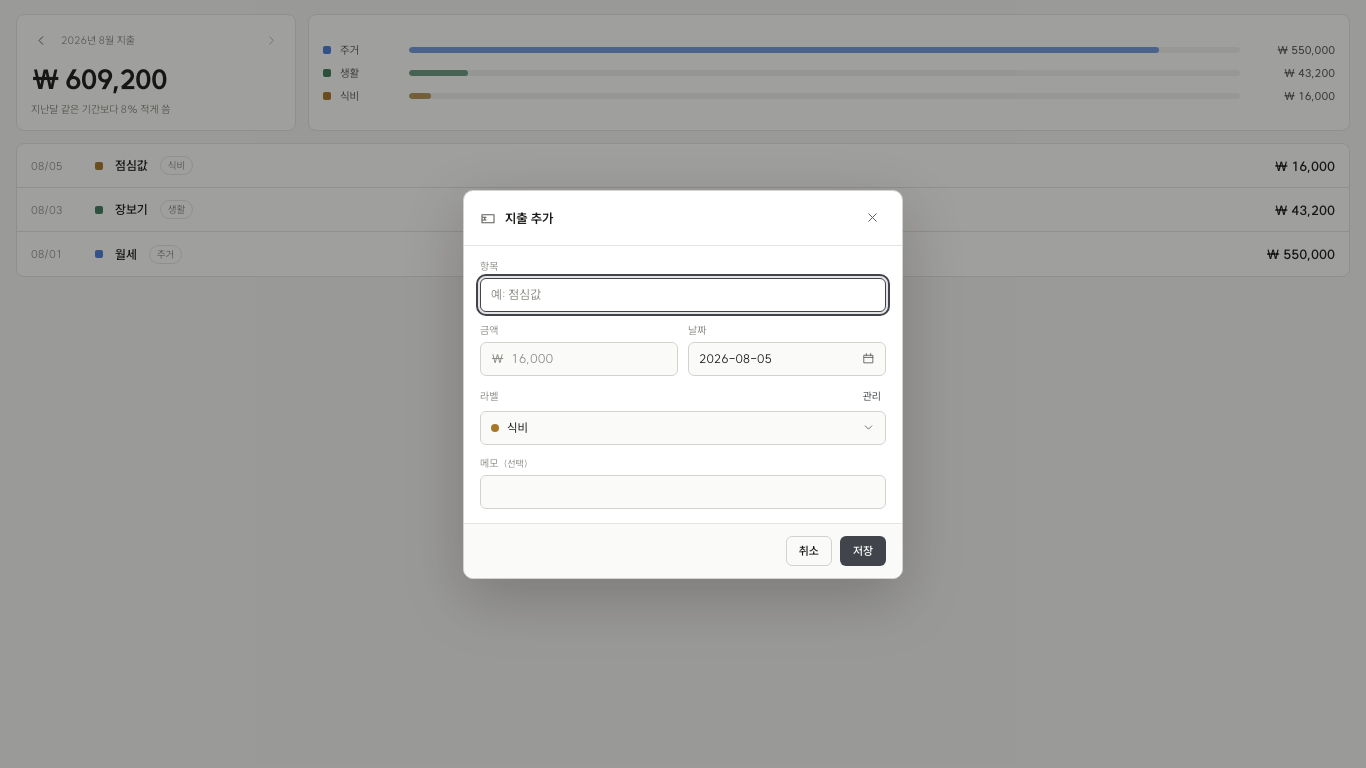
Scenario: LedgerPage › shows the creation pending state inside the Modal
In the field labelled "항목": x=683, y=294 [480, 278, 886, 312], type "저녁 식사"
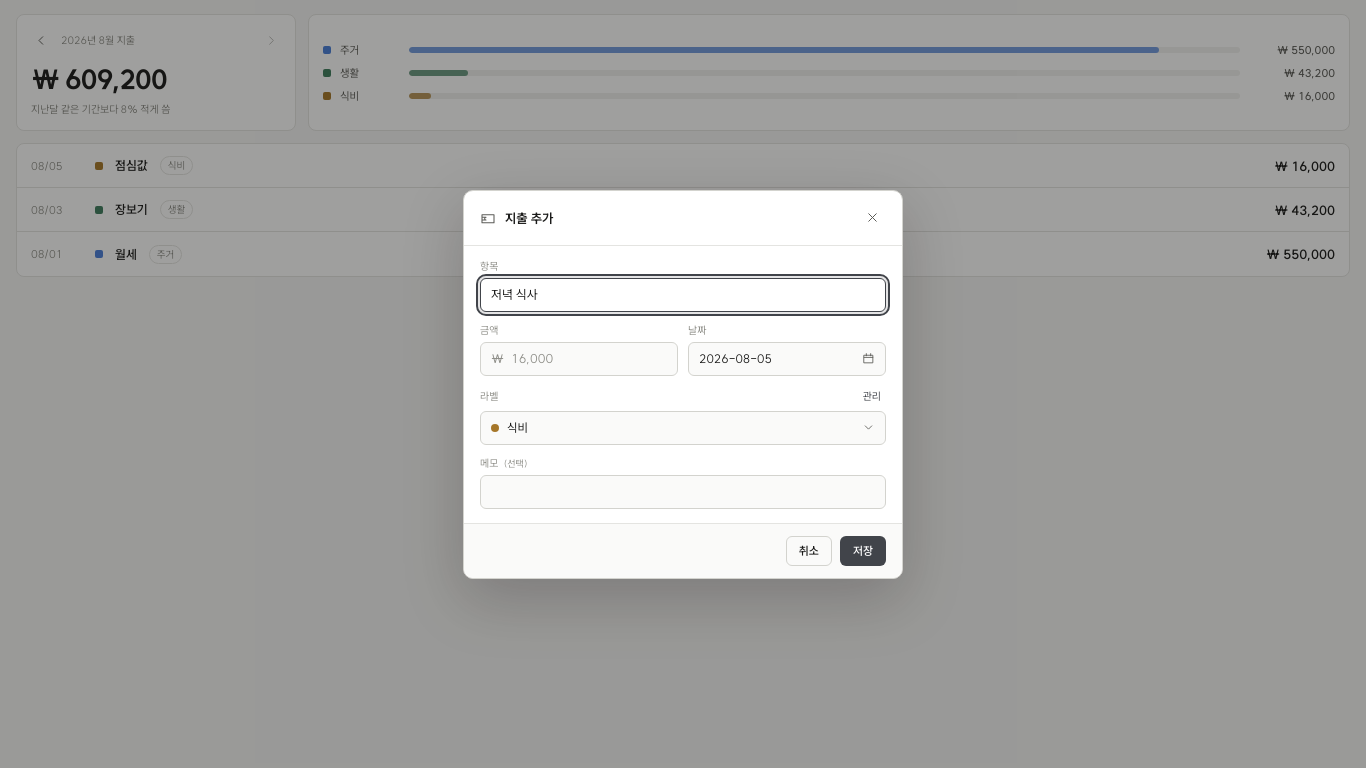
In the field labelled "금액": x=589, y=358 [511, 342, 667, 374], type "12345"
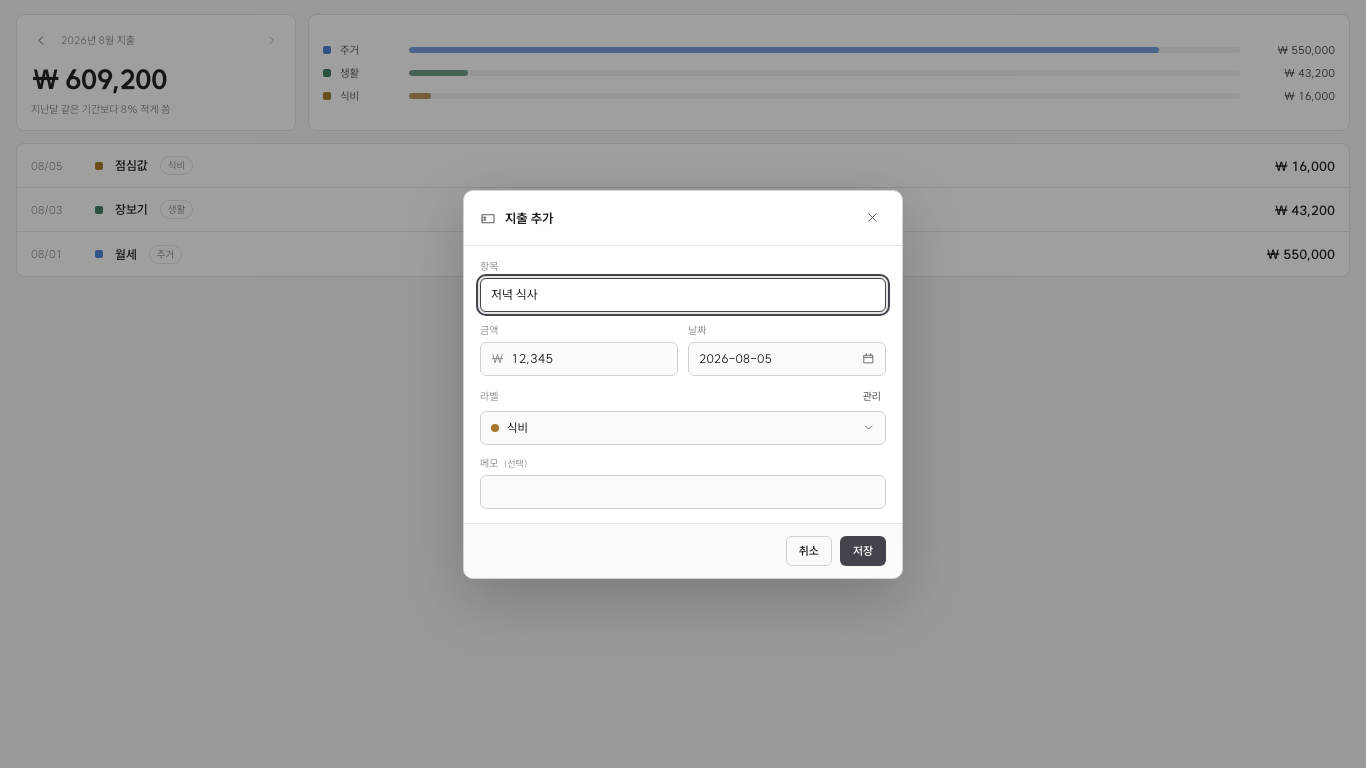
Check: the field labelled "금액" holds "12,345", box [511, 342, 667, 374]
Click the button "저장": x=863, y=550 [840, 536, 886, 566]
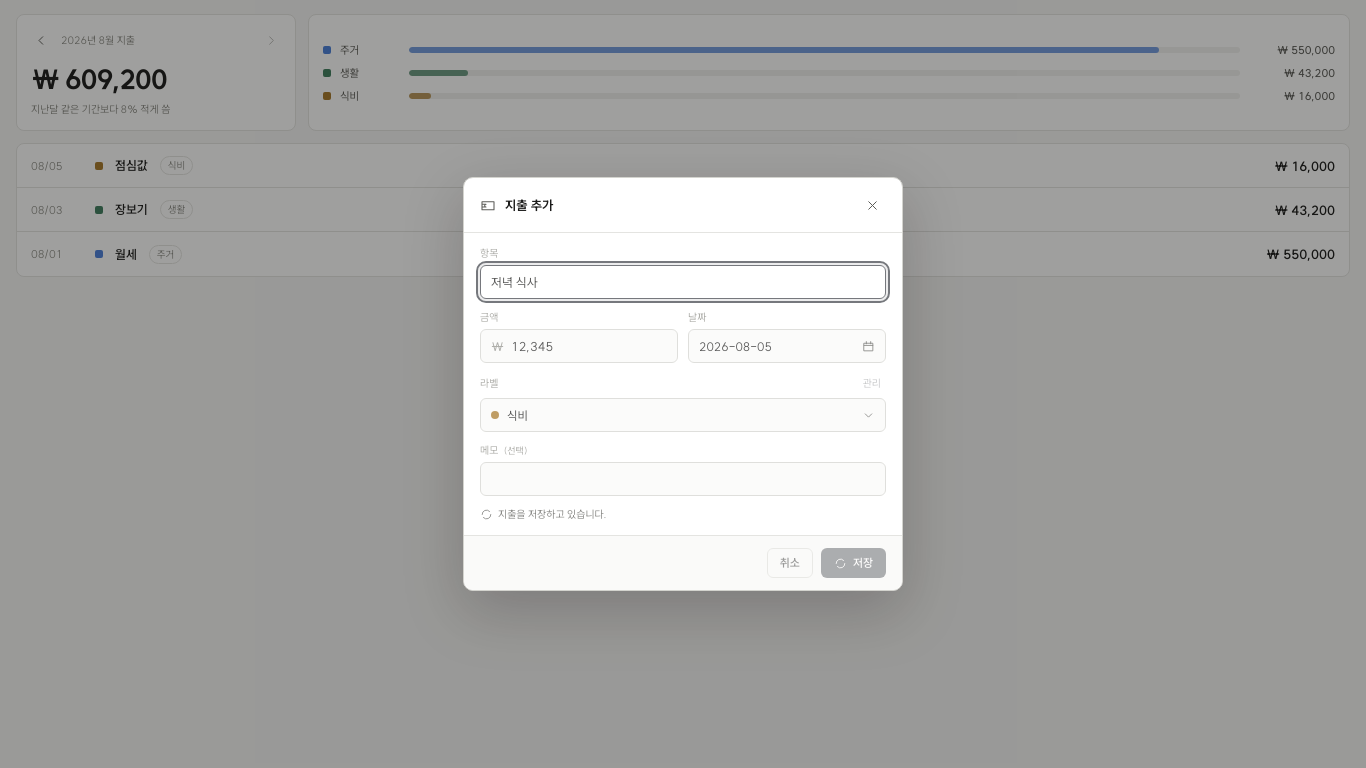
Check: the message reads "지출을 저장하고 있습니다.", box [498, 508, 607, 521]
Check: the button "저장" is disabled, box [821, 548, 886, 578]
